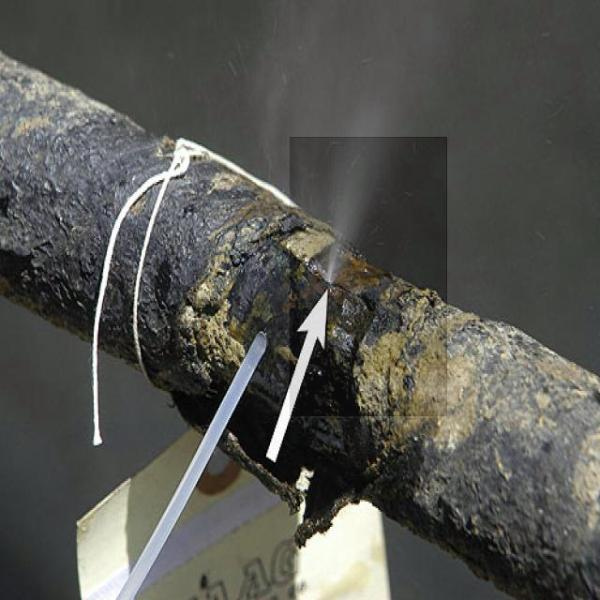gas: (290, 138, 446, 418)
